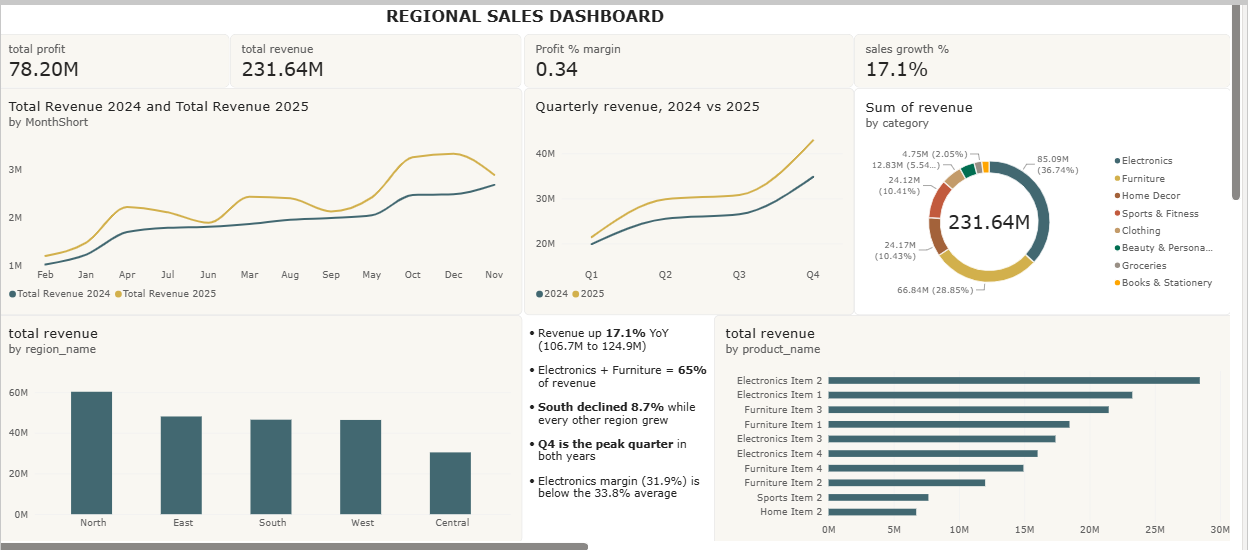

The page's visual inventory and layout, read from the dashboard file:
{"tool":"powerbi","page":{"name":"Page 1","canvas":[3822,2160],"ordinal":0},"visuals":[{"type":"cardVisual","fields":{"Data":["sales_fact_.total revenue"]},"box":[347.8,43.3,435.8,80.6],"z":0},{"type":"cardVisual","fields":{"Data":["sales_fact_.total profit"]},"box":[0,43.3,347.8,80.6],"z":1000},{"type":"cardVisual","fields":{"Data":["sales_fact_.Profit % margin 2"]},"box":[786.6,43.3,492.5,80.6],"z":2000},{"type":"cardVisual","fields":{"Data":["sales_fact_.sales growth %"]},"box":[1279.1,43.3,562.7,80.6],"z":3000},{"type":"barChart","fields":{"Category":["dim_product_.product_name"],"Y":["sales_fact_.total revenue"]},"box":[1070.1,462.7,795.5,350.7],"z":4000},{"type":"clusteredColumnChart","fields":{"Category":["dim_region_.region_name"],"Y":["sales_fact_.total revenue"]},"box":[0,462.7,783.6,340.3],"z":5000},{"type":"lineChart","fields":{"Category":["DimDate.MonthShort"],"Y":["sales_fact_.Total Revenue 2024","sales_fact_.Total Revenue 2025"]},"box":[0,123.9,783.6,338.8],"z":6000},{"type":"lineChart","title":"Quarterly revenue, 2024 vs 2025","fields":{"Category":["DimDate.Quarter"],"Series":["DimDate.Year"],"Y":["Sum(sales_fact_.revenue)"]},"box":[786.6,123.9,492.5,338.8],"z":7000},{"type":"donutChart","fields":{"Category":["dim_product_.category"],"Y":["Sum(sales_fact_.revenue)"]},"box":[1279.1,123.9,562.7,338.8],"z":8000},{"type":"textbox","box":[164.2,0,1247.8,53.7],"z":9000},{"type":"textbox","box":[783.6,462.7,286.6,340.3],"z":10000}]}

Visuals, with their boxes on the page's 3822x2160 design canvas (x1, y1, x2, y2). These are canvas units, not pixel positions in the 1248x550 screenshot, which may show the page scaled, cropped or inside an application window:
cardVisual - sales_fact_.total revenue: [348,43,784,124]
cardVisual - sales_fact_.total profit: [0,43,348,124]
cardVisual - sales_fact_.Profit % margin 2: [787,43,1279,124]
cardVisual - sales_fact_.sales growth %: [1279,43,1842,124]
barChart - dim_product_.product_name x sales_fact_.total revenue: [1070,463,1866,813]
clusteredColumnChart - dim_region_.region_name x sales_fact_.total revenue: [0,463,784,803]
lineChart - DimDate.MonthShort x sales_fact_.Total Revenue 2024: [0,124,784,463]
"Quarterly revenue, 2024 vs 2025" lineChart: [787,124,1279,463]
donutChart - dim_product_.category x Sum(sales_fact_.revenue): [1279,124,1842,463]
textbox: [164,0,1412,54]
textbox: [784,463,1070,803]
